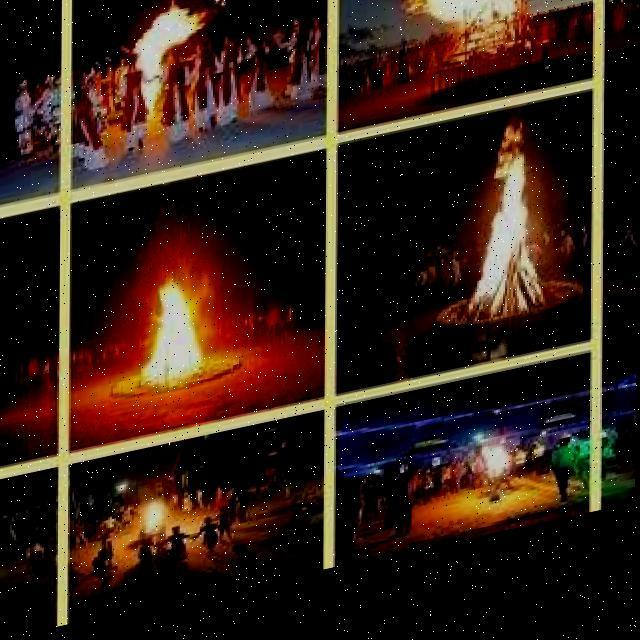Fire: (468, 148, 558, 350), (134, 273, 212, 398), (419, 0, 522, 80), (125, 0, 208, 96), (478, 461, 514, 510), (139, 504, 169, 542)
